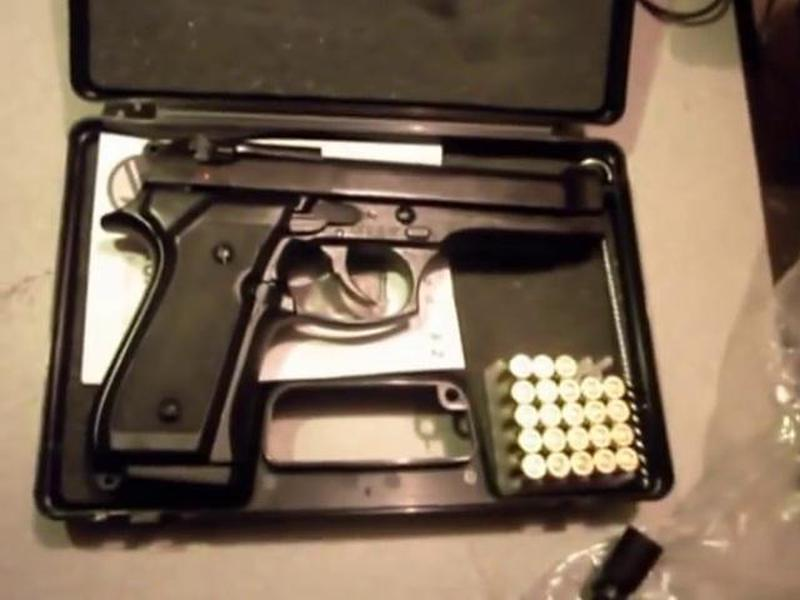Pistola: (96, 129, 607, 506)
